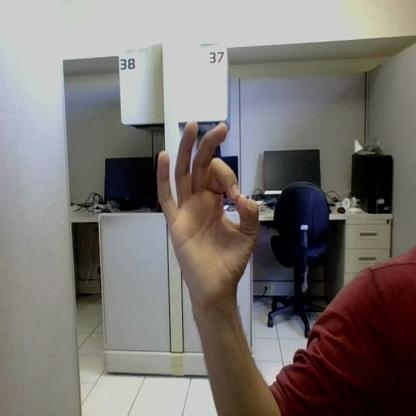F: (157, 122, 260, 298)
